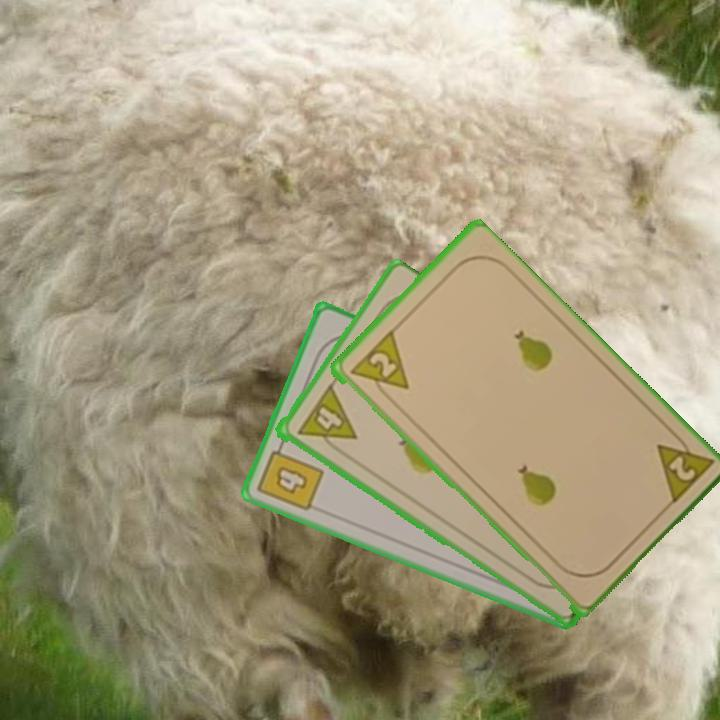2p: (651, 425, 715, 509), (345, 328, 412, 405)
4b: (253, 437, 327, 515)
4p: (292, 382, 359, 458)
